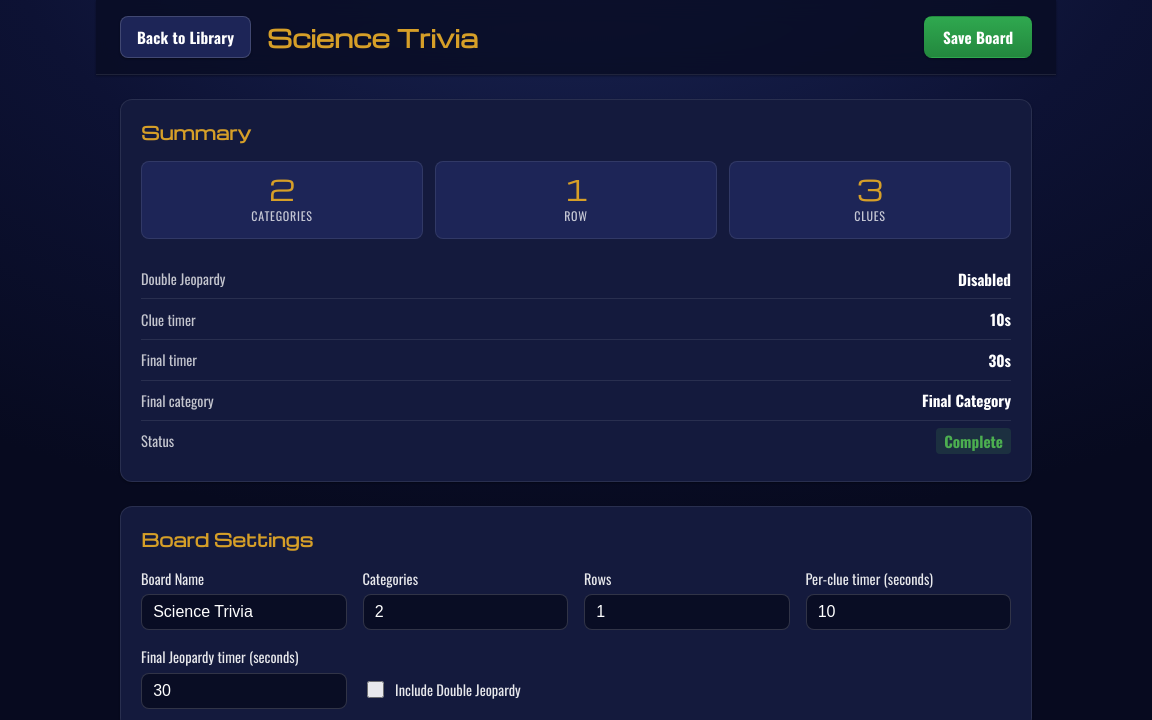
Test: BoardEditor › warns before shrinking the grid over authored cells
Replace the text in the number field labelled "Categories" with "1" at coordinates (465, 612), box [362, 594, 568, 630]
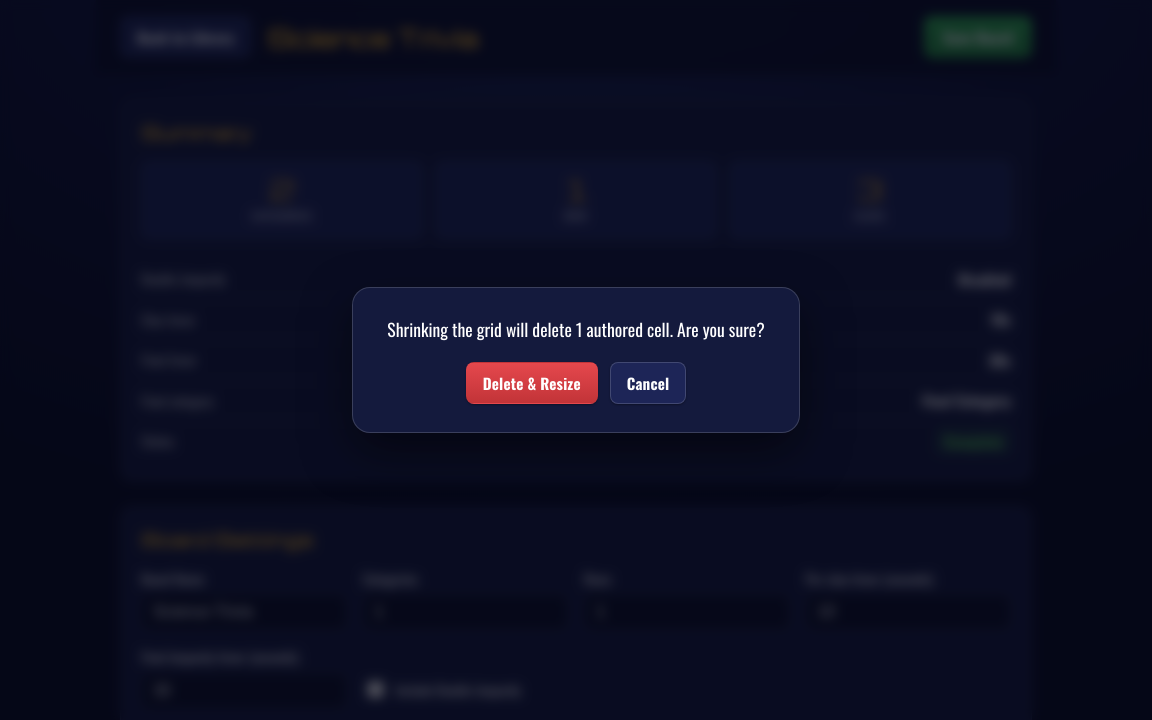
Expected: the dialog is shown
Click the button "Cancel" at coordinates (648, 383), box [610, 362, 686, 404]
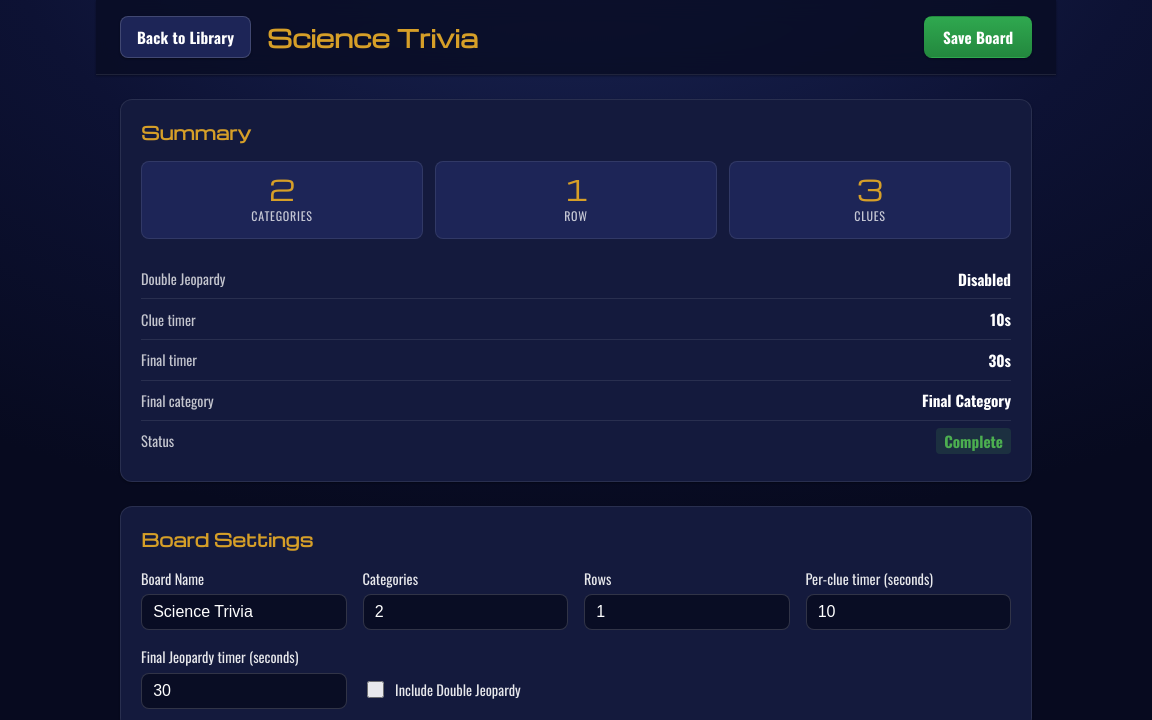
Expected: the number field labelled "Categories" holds "2", [362, 594, 568, 630]
